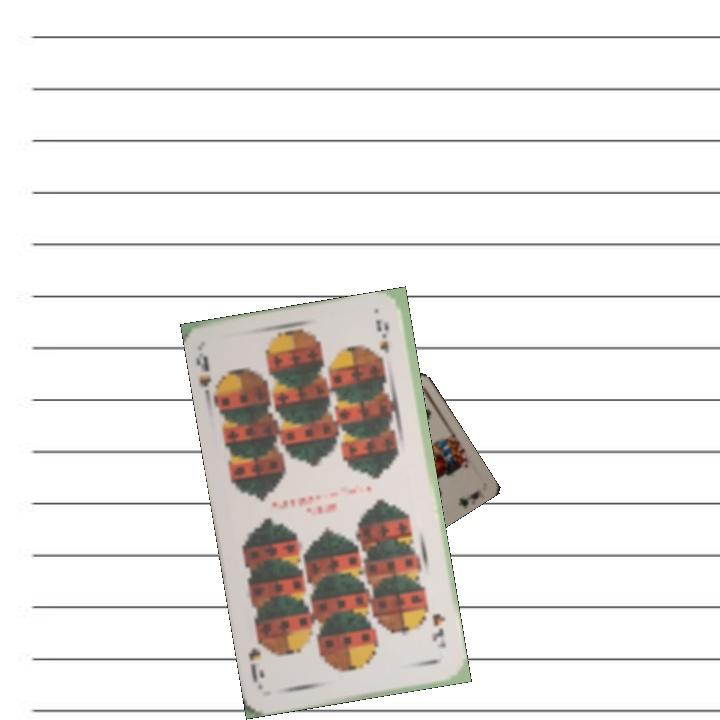S9: (192, 348, 225, 405), (428, 609, 449, 651)
